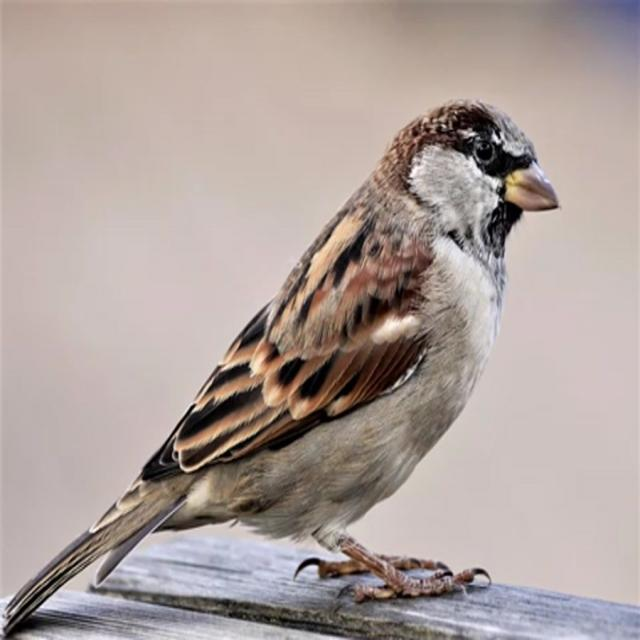bird: (0, 88, 563, 640)
